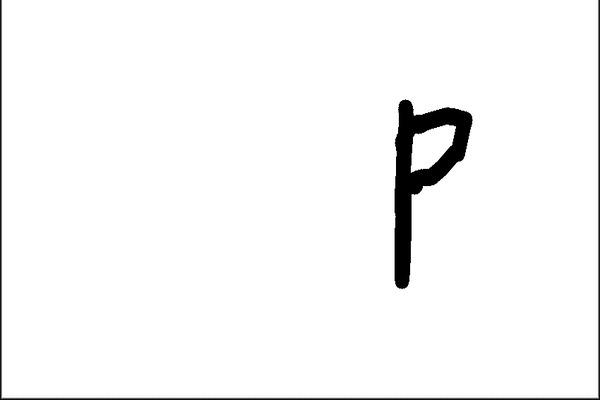P: (377, 91, 478, 298)
